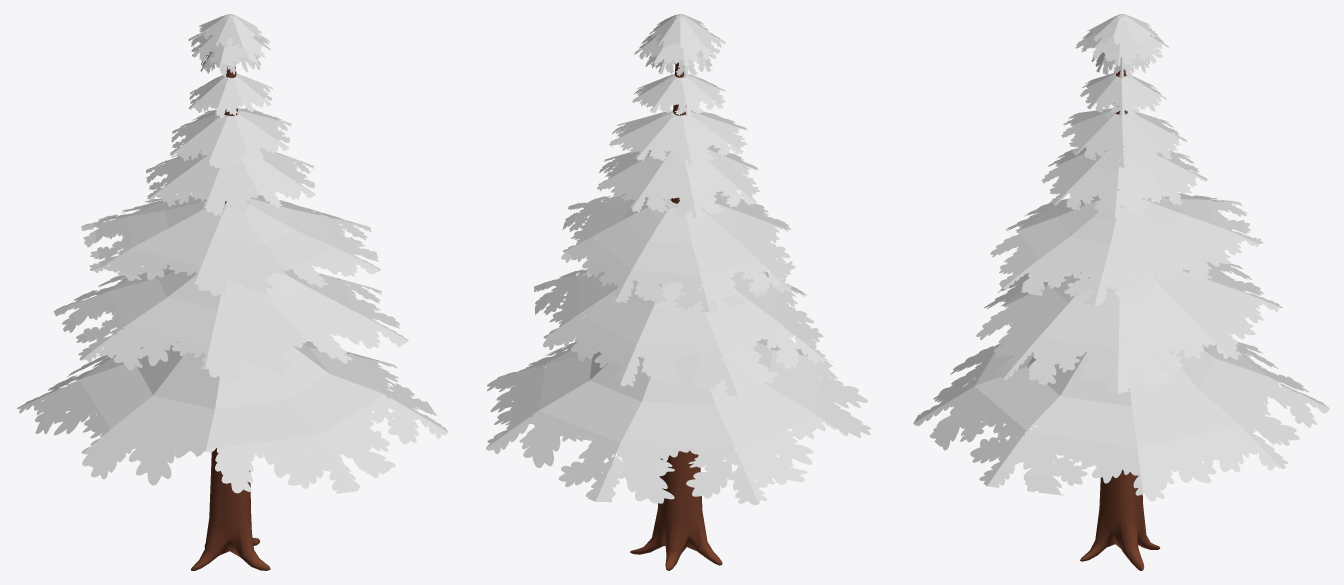
The model's file is tree4.fbx.
The picture shows the model from 3 angles, left to right: view 1: azimuth 30°, elevation 25°; view 2: azimuth 150°, elevation 25°; view 3: azimuth 270°, elevation 25°; orthographic projection.
Parts seen in each view (by area): view 1: hojas.047; view 2: hojas.047; view 3: hojas.047.
Boxes of the visible parts, x1,y1,x2,y2 form: hojas.047: (17,14,448,570); hojas.047: (486,14,870,570); hojas.047: (913,14,1329,570).
Bounding box in the file's own units: 2267 × 3196 × 2240.
